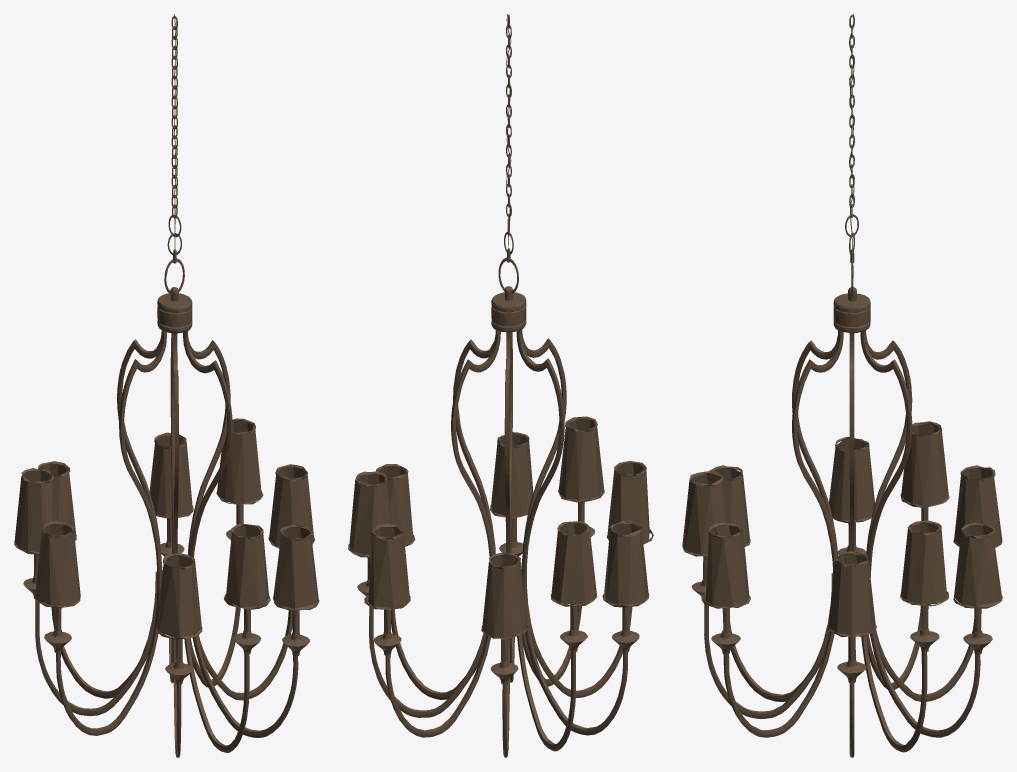
The picture shows the model from 3 angles, left to right: view 1: azimuth 30°, elevation 25°; view 2: azimuth 150°, elevation 25°; view 3: azimuth 270°, elevation 25°; orthographic projection.
Visible parts, largest first — view 1: solid_001_wire; view 2: solid_001_wire; view 3: solid_001_wire.
Boxes of the visible parts, left/top/right/bottom form: solid_001_wire: left=14, top=14, right=319, bottom=757; solid_001_wire: left=348, top=14, right=653, bottom=757; solid_001_wire: left=682, top=14, right=1002, bottom=757.
Bounding box in the file's own units: 0.4244 × 1.04 × 0.4302.
